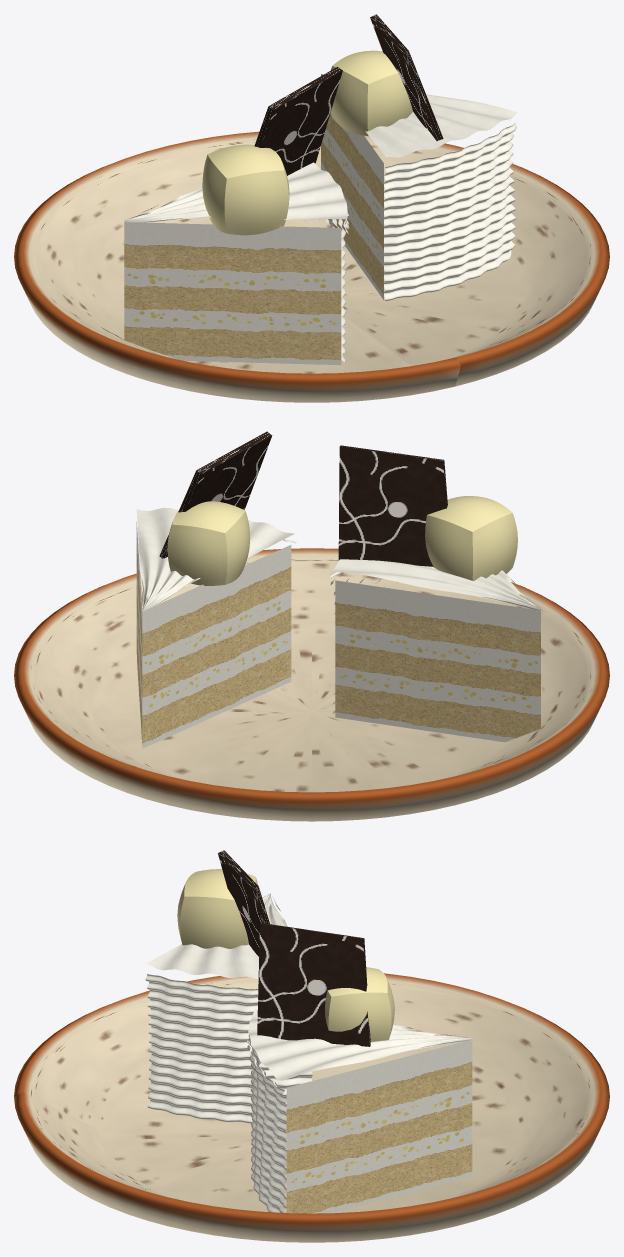
The model's file is cake_slices.glb.
3 renders of one model, top to bottom at view 1: azimuth 30°, elevation 25°; view 2: azimuth 150°, elevation 25°; view 3: azimuth 270°, elevation 25°, orthographic.
Parts seen in each view (by area): view 1: plate, sliceA_layers, sliceB_ribbed, sliceA_pineapple, sliceB_layers, sliceB_pineapple, sliceA_chocolate, sliceB_cream, sliceA_cream, sliceB_chocolate, sliceA_ribbed; view 2: plate, sliceA_layers, sliceB_layers (×2), sliceA_chocolate, sliceA_pineapple, sliceB_pineapple, sliceB_cream, sliceA_cream, sliceB_chocolate; view 3: plate, sliceB_layers, sliceA_ribbed, sliceB_chocolate, sliceB_cream, sliceB_ribbed, sliceA_pineapple, sliceB_pineapple, sliceA_cream, sliceA_chocolate.
Boxes of the visible parts, bbox=[...] form: plate: bbox=[14, 131, 609, 402]; sliceA_layers: bbox=[124, 222, 341, 365]; sliceB_ribbed: bbox=[384, 123, 516, 300]; sliceA_pineapple: bbox=[202, 144, 289, 235]; sliceB_layers: bbox=[321, 113, 383, 299]; sliceB_pineapple: bbox=[330, 50, 412, 135]; sliceA_chocolate: bbox=[254, 67, 342, 175]; sliceB_cream: bbox=[321, 74, 517, 157]; sliceA_cream: bbox=[124, 162, 347, 222]; sliceB_chocolate: bbox=[370, 14, 443, 140]; sliceA_ribbed: bbox=[288, 213, 349, 362]; plate: bbox=[14, 548, 609, 821]; sliceA_layers: bbox=[335, 580, 540, 742]; sliceB_layers (×2): bbox=[136, 522, 291, 748]; sliceA_chocolate: bbox=[338, 445, 447, 566]; sliceA_pineapple: bbox=[425, 496, 517, 580]; sliceB_pineapple: bbox=[167, 501, 250, 585]; sliceB_cream: bbox=[136, 507, 294, 611]; sliceA_cream: bbox=[330, 559, 540, 610]; sliceB_chocolate: bbox=[159, 431, 272, 558]; plate: bbox=[14, 973, 609, 1242]; sliceB_layers: bbox=[286, 1039, 472, 1213]; sliceA_ribbed: bbox=[145, 974, 312, 1123]; sliceB_chocolate: bbox=[257, 923, 370, 1046]; sliceB_cream: bbox=[249, 1009, 472, 1080]; sliceB_ribbed: bbox=[247, 1029, 286, 1212]; sliceA_pineapple: bbox=[177, 869, 258, 948]; sliceB_pineapple: bbox=[325, 967, 394, 1041]; sliceA_cream: bbox=[146, 893, 287, 979]; sliceA_chocolate: bbox=[218, 850, 269, 956].
Size of the model in its own units: 0.26 by 0.131 by 0.26.
6 materials, 5 textured.
